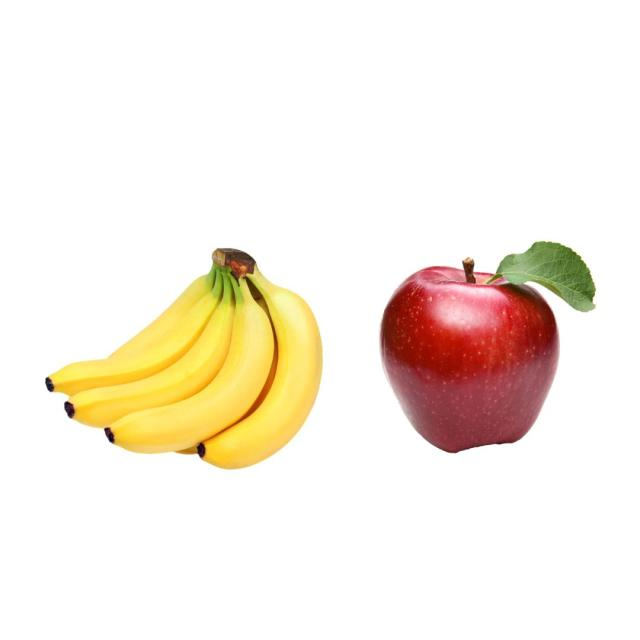Apel: (378, 240, 596, 453)
Pisang: (45, 246, 323, 470)
